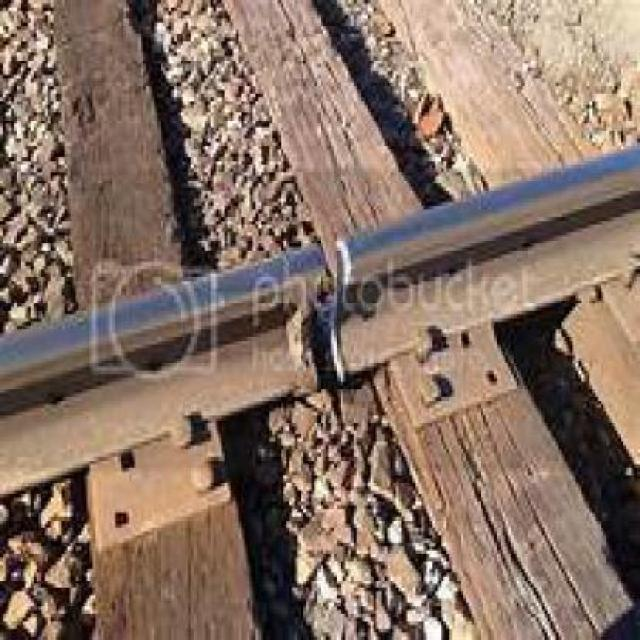defective: (114, 124, 632, 492)
